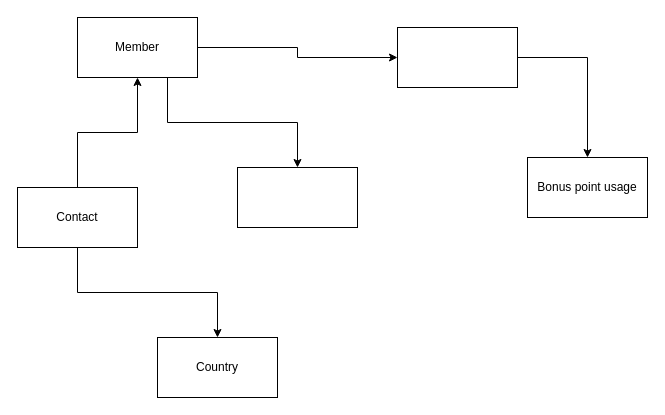
Image size: 665x415. Some labels were removed from this diagram. The box of each missing label's shape, as (x1, y1, x2, y2) in pixels:
Bonus point: (396, 26, 518, 88)
Member level: (236, 166, 358, 228)
